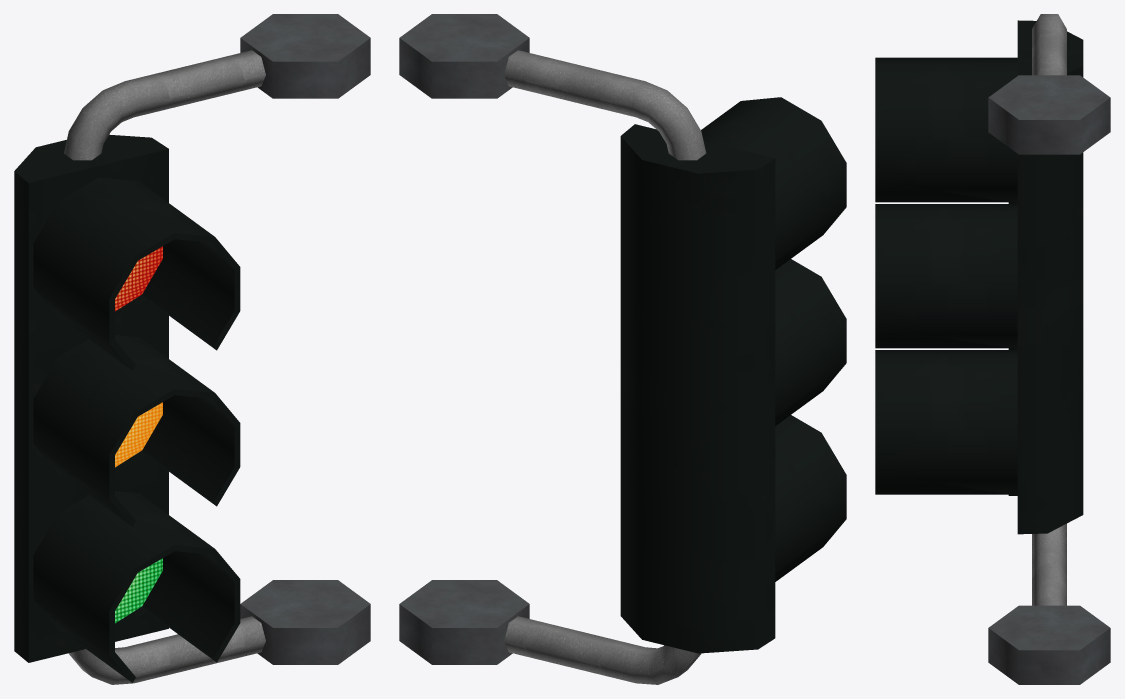
The model's file is traffic_light_left.glb.
The picture shows the model from 3 angles, left to right: view 1: azimuth 30°, elevation 25°; view 2: azimuth 150°, elevation 25°; view 3: azimuth 270°, elevation 25°; orthographic projection. The views are drawn at different scales.
Parts seen in each view (by area): view 1: Housing, Shroud Red, Shroud Green, Shroud Yellow, Mount Ring Top, Mount Ring Bottom, Mount Top, Mount Bottom; view 2: Housing, Shroud Red, Mount Ring Top, Mount Ring Bottom, Shroud Yellow, Shroud Green, Mount Top, Mount Bottom; view 3: Housing, Shroud Green, Shroud Yellow, Shroud Red, Mount Ring Bottom, Mount Ring Top, Mount Bottom, Mount Top.
Boxes of the visible parts, x1,y1,x2,y2 form: Housing: [14, 134, 168, 662]; Shroud Red: [33, 177, 240, 370]; Shroud Green: [33, 491, 240, 682]; Shroud Yellow: [33, 335, 240, 526]; Mount Ring Top: [240, 14, 370, 98]; Mount Ring Bottom: [240, 580, 370, 664]; Mount Top: [64, 50, 265, 160]; Mount Bottom: [68, 616, 265, 684]; Housing: [620, 124, 775, 653]; Shroud Red: [701, 97, 846, 269]; Mount Ring Top: [399, 14, 529, 98]; Mount Ring Bottom: [399, 580, 529, 664]; Shroud Yellow: [775, 259, 846, 425]; Shroud Green: [775, 415, 846, 581]; Mount Top: [504, 50, 706, 160]; Mount Bottom: [504, 616, 701, 684]; Housing: [1017, 20, 1083, 534]; Shroud Green: [875, 350, 1017, 495]; Shroud Yellow: [875, 204, 1017, 349]; Shroud Red: [875, 57, 1017, 203]; Mount Ring Bottom: [988, 605, 1110, 684]; Mount Ring Top: [988, 75, 1110, 154]; Mount Bottom: [1032, 523, 1066, 605]; Mount Top: [1032, 14, 1066, 75].
Bounding box in the file's own units: 0.7475 × 1.26 × 0.4739.
Materials: 7 (7 with a texture image).
